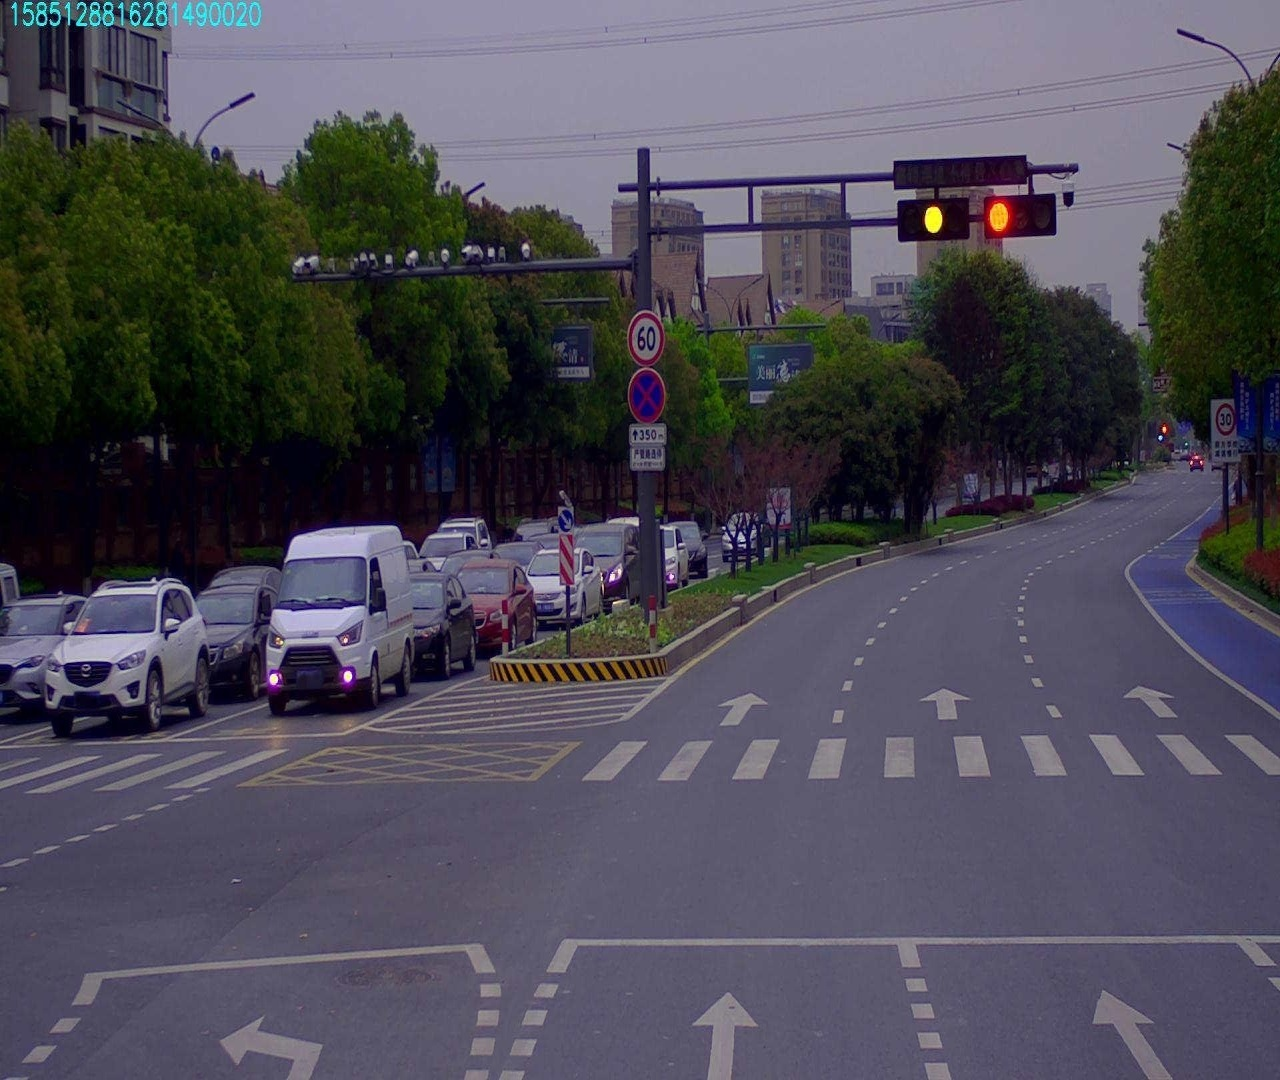red: (982, 202, 1058, 239)
yellow: (897, 193, 963, 242)
